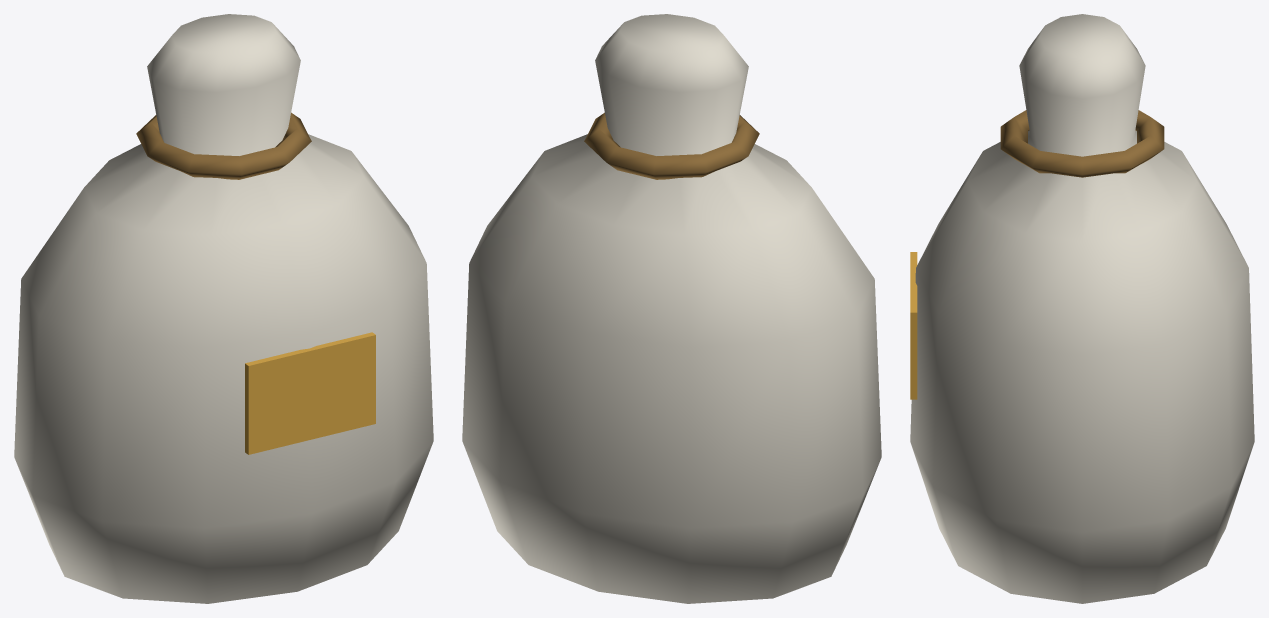
The model's file is Proc_WheatFlour.fbx.
3 renders of one model, left to right at view 1: azimuth 30°, elevation 25°; view 2: azimuth 150°, elevation 25°; view 3: azimuth 270°, elevation 25°, orthographic. The views are drawn at different scales.
Visible parts, largest first — view 1: Proc_WheatFlour__Stack; view 2: Proc_WheatFlour__Stack; view 3: Proc_WheatFlour__Stack.
Part boxes in pixels (<box>): Proc_WheatFlour__Stack: <box>14,14,433,603</box>; Proc_WheatFlour__Stack: <box>462,14,881,603</box>; Proc_WheatFlour__Stack: <box>910,14,1254,603</box>.
Bounding box in the file's own units: 0.216 × 0.272 × 0.1728.
